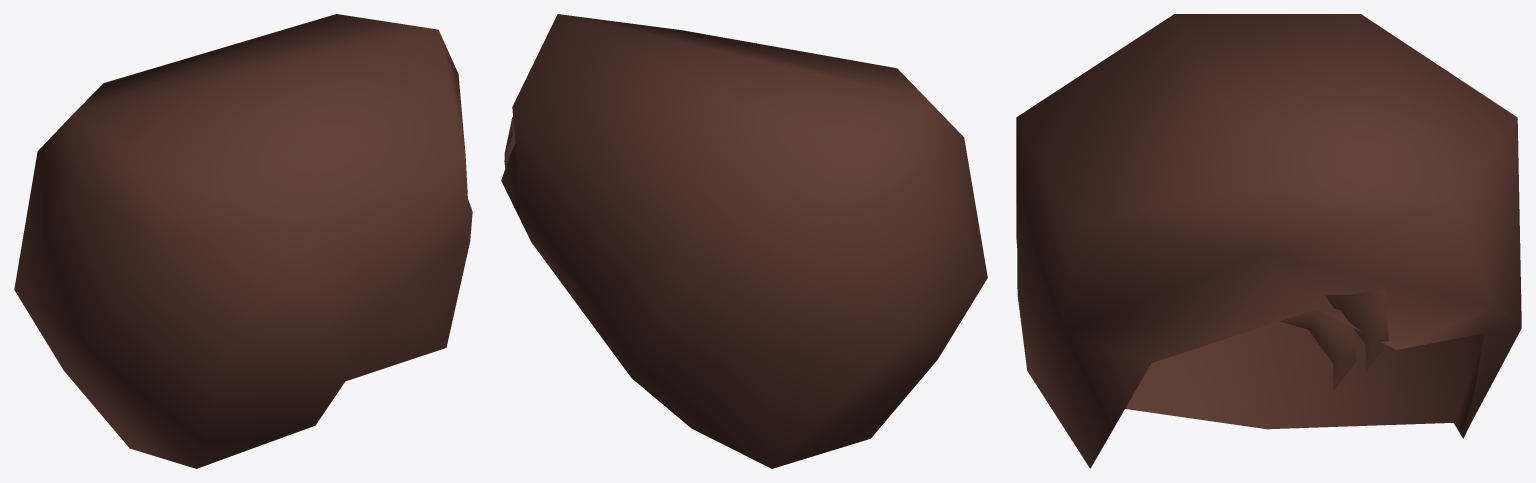
The model's file is VitoHair.glb.
3 views of the same model, side by side, from view 1: azimuth 30°, elevation 25°; view 2: azimuth 150°, elevation 25°; view 3: azimuth 270°, elevation 25° (orthographic). The views are drawn at different scales.
Parts seen in each view (by area): view 1: VitoHair; view 2: VitoHair; view 3: VitoHair.
Part boxes in pixels (left/top/right/bottom): VitoHair: left=14, top=14, right=472, bottom=468; VitoHair: left=501, top=14, right=987, bottom=468; VitoHair: left=1016, top=14, right=1521, bottom=468.
Bounding box in the file's own units: 6.1 × 4.93 × 5.11.
